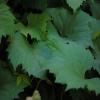grape leaf: (46, 38, 95, 80), (9, 32, 49, 80), (14, 12, 50, 42)
